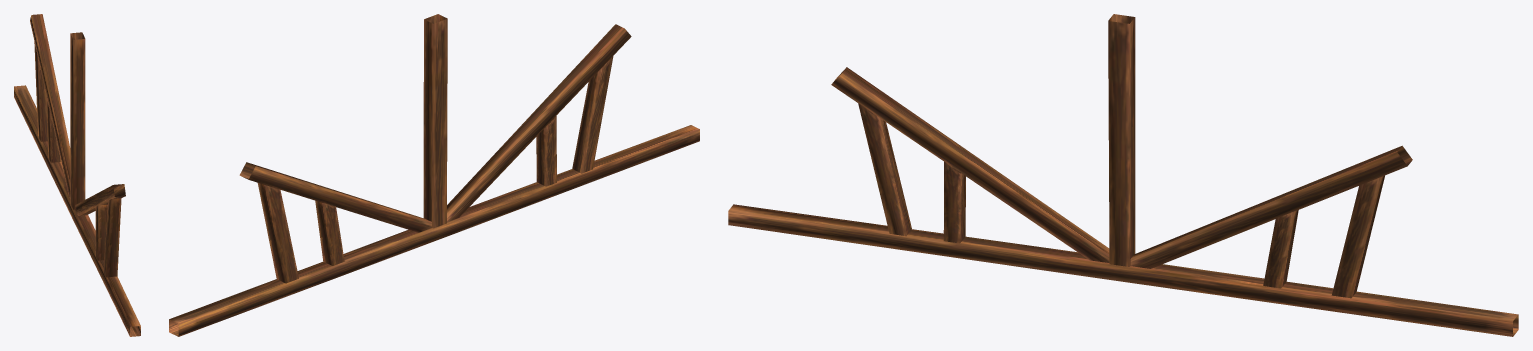
The model's file is SWORDLIGHT20_JAILCEILBRACKET16.fbx.
3 views of the same model, side by side, from view 1: azimuth 30°, elevation 25°; view 2: azimuth 150°, elevation 25°; view 3: azimuth 270°, elevation 25° (orthographic). The views are drawn at different scales.
Visible parts, largest first — view 1: SWORDLIGHT20_JAILCEILBRACKET16; view 2: SWORDLIGHT20_JAILCEILBRACKET16; view 3: SWORDLIGHT20_JAILCEILBRACKET16.
Part boxes in pixels (left/top/right/bottom): SWORDLIGHT20_JAILCEILBRACKET16: left=14, top=14, right=140, bottom=336; SWORDLIGHT20_JAILCEILBRACKET16: left=169, top=14, right=699, bottom=336; SWORDLIGHT20_JAILCEILBRACKET16: left=728, top=14, right=1518, bottom=336.
Size of the model in its own units: 48397 by 49666 by 137381.
1 material, 1 textured.
